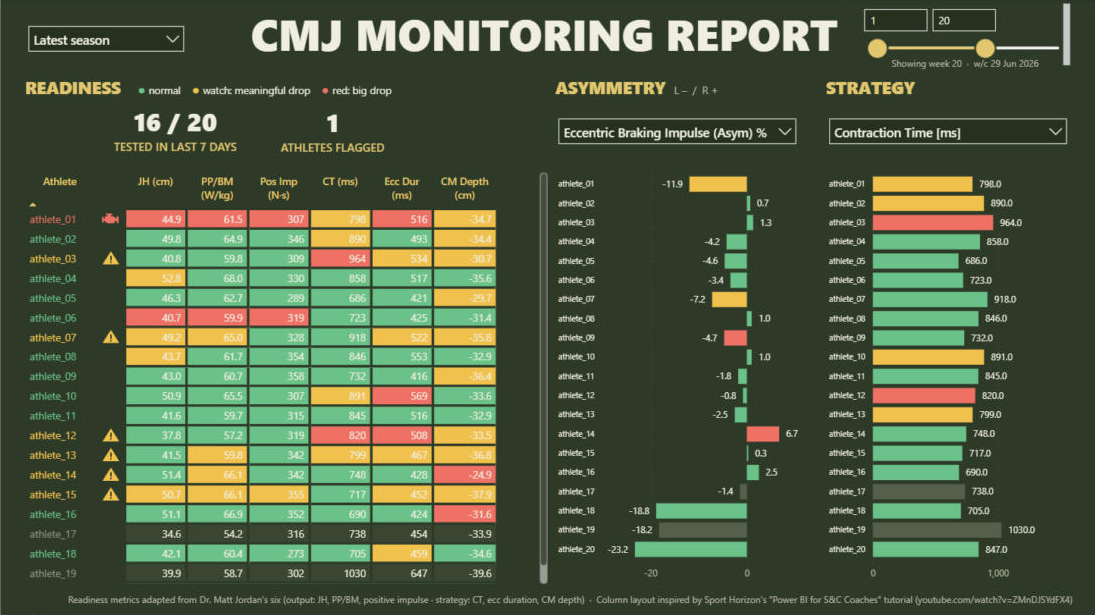

Layout of this report page (visuals, bound fields, positions):
{"tool":"powerbi","page":{"name":"Team Readiness","canvas":[1280,720],"ordinal":0},"visuals":[{"type":"textbox","box":[24,84,600,50],"z":40},{"type":"textbox","box":[644,84,296,50],"z":40},{"type":"textbox","box":[960,84,296,50],"z":40},{"type":"textbox","box":[24,0,1232,88],"z":41},{"type":"cardVisual","fields":{"Data":["Metric Table.Tested This Week"]},"box":[100.2,106,209.1,90.5],"z":42},{"type":"cardVisual","fields":{"Data":["Metric Table.Flagged Athletes"]},"box":[280.1,108,217.9,88.5],"z":43},{"type":"tableEx","fields":{"Values":["athleteid.Name","Metric Table.Status Icon","Metric Table.JH (cm)","Metric Table.PP/BM (W/kg)","Metric Table.Pos Impulse (N s)","Metric Table.CT (ms)","Metric Table.Ecc Dur (ms)","Metric Table.CM Depth (cm)"]},"box":[24.3,198.4,619.6,489.2],"z":44},{"type":"textbox","box":[24,690,1232,30],"z":45},{"type":"slicer","fields":{"Values":["Metric Table.Metric"]},"box":[644,130,296,46],"z":5000},{"type":"slicer","fields":{"Values":["Metric Table.Metric"]},"box":[960,130,296,46],"z":6000},{"type":"clusteredBarChart","fields":{"Category":["athleteid.Name"],"Y":["Metric Table.Selected Metric 2(1)"]},"box":[644,186,296,502],"z":8000},{"type":"clusteredBarChart","fields":{"Category":["athleteid.Name"],"Y":["Metric Table.Selected Metric 2"]},"box":[960,186,296,502],"z":9000},{"type":"slicer","fields":{"Values":["CMJ Data.Week"]},"box":[1000,4,256,66],"z":11000},{"type":"card","fields":{"Values":["Metric Table.As Of Label"]},"box":[1000,68,256,18],"z":11100},{"type":"slicer","fields":{"Values":["CMJ Data.Season"]},"box":[24,22,200,44],"z":11500}]}

Visuals, with their boxes in screenshot pixels (x1, y1, x2, y2), scaled from the page's 1280x720 canvas onto the 1095x615 screenshot:
textbox: box=[21, 72, 534, 114]
textbox: box=[551, 72, 804, 114]
textbox: box=[821, 72, 1074, 114]
textbox: box=[21, 0, 1074, 75]
cardVisual - Metric Table.Tested This Week: box=[86, 91, 265, 168]
cardVisual - Metric Table.Flagged Athletes: box=[240, 92, 426, 168]
tableEx - athleteid.Name x Metric Table.Status Icon: box=[21, 169, 551, 587]
textbox: box=[21, 589, 1074, 614]
slicer - Metric Table.Metric: box=[551, 111, 804, 150]
slicer - Metric Table.Metric: box=[821, 111, 1074, 150]
clusteredBarChart - athleteid.Name x Metric Table.Selected Metric 2(1): box=[551, 159, 804, 588]
clusteredBarChart - athleteid.Name x Metric Table.Selected Metric 2: box=[821, 159, 1074, 588]
slicer - CMJ Data.Week: box=[855, 3, 1074, 60]
card - Metric Table.As Of Label: box=[855, 58, 1074, 73]
slicer - CMJ Data.Season: box=[21, 19, 192, 56]
